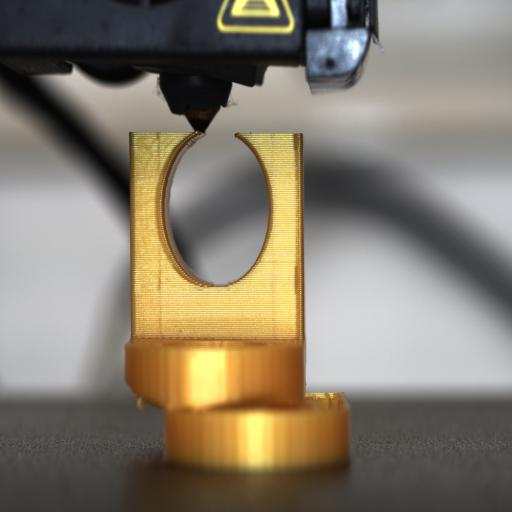layer_shift: (128, 382, 354, 422)
